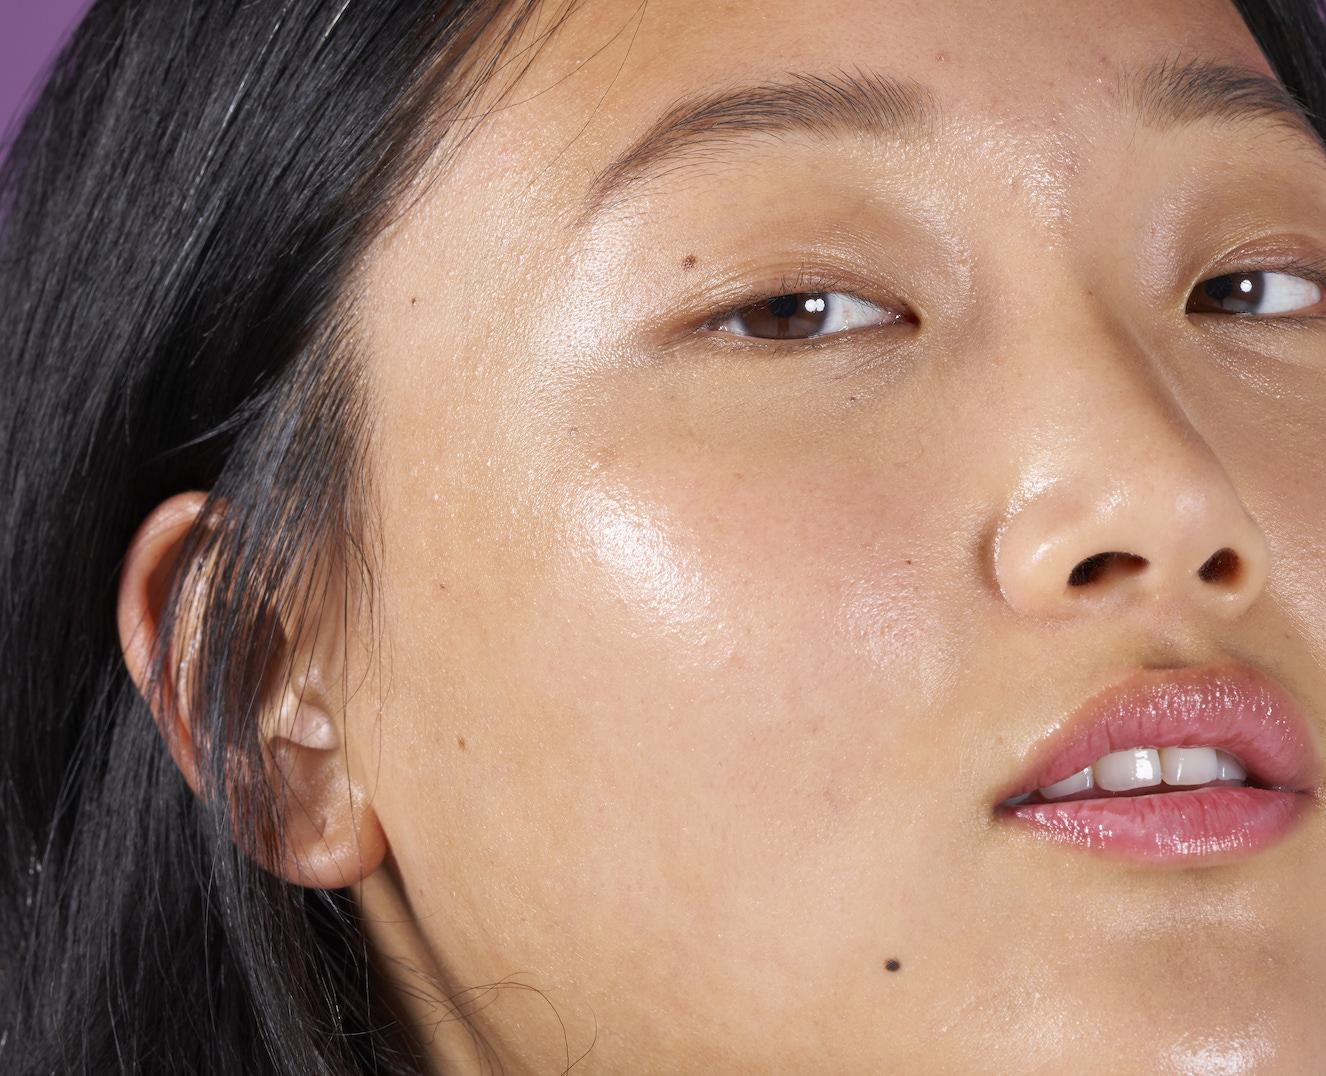Oily-Skin: (525, 281, 1293, 1013)
